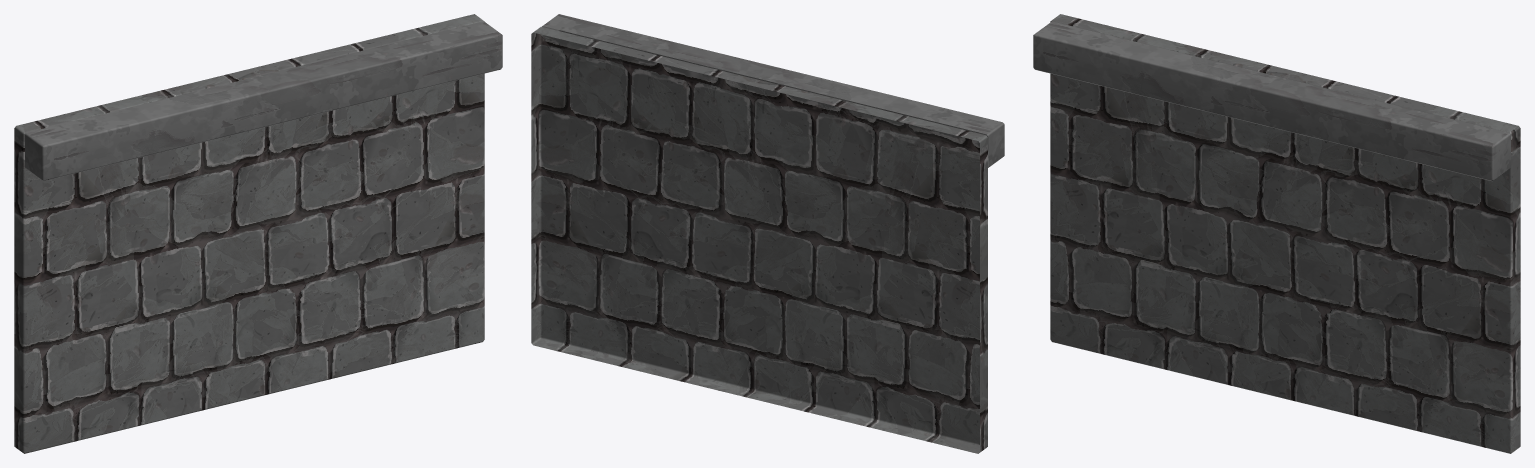
Rendered from Big_wall_V2.fbx.
3 renders of one model, left to right at view 1: azimuth 30°, elevation 25°; view 2: azimuth 150°, elevation 25°; view 3: azimuth 330°, elevation 25°, orthographic. The views are drawn at different scales.
Visible parts, largest first — view 1: Big_wall_V2; view 2: Big_wall_V2; view 3: Big_wall_V2.
Boxes of the visible parts, left/top/right/bottom form: Big_wall_V2: left=14, top=14, right=502, bottom=453; Big_wall_V2: left=531, top=14, right=1004, bottom=453; Big_wall_V2: left=1033, top=14, right=1520, bottom=453.
Size of the model in its own units: 1200 by 799 by 123.
